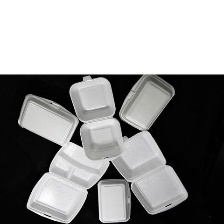foam_box: (107, 127, 193, 217), (23, 139, 113, 224), (65, 74, 127, 164), (15, 90, 81, 149), (116, 74, 179, 135), (95, 176, 134, 224)
